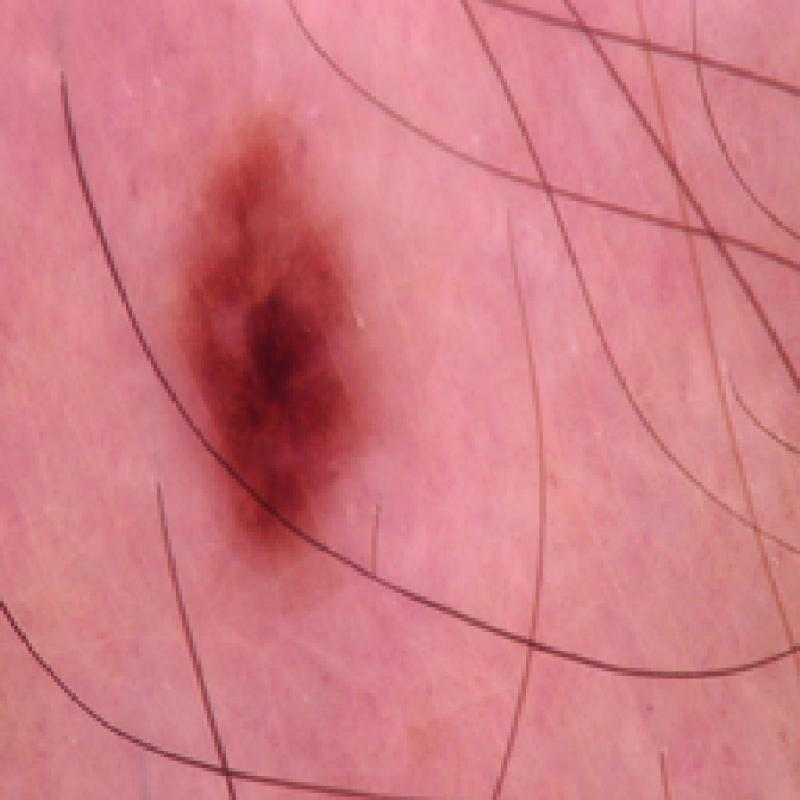benign: (136, 91, 426, 582)
